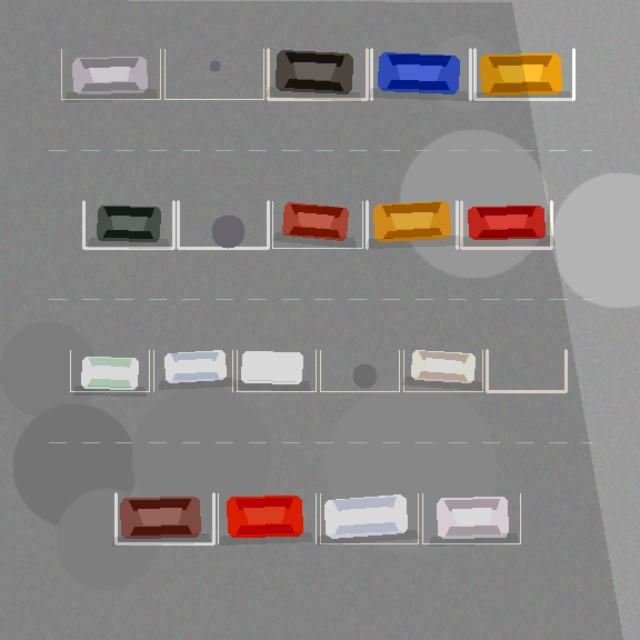space-empty: (164, 49, 263, 99), (178, 201, 268, 248), (320, 350, 399, 391), (487, 350, 566, 391)
space-occupied: (61, 49, 160, 99), (268, 49, 367, 99), (371, 49, 470, 99), (474, 49, 573, 99), (218, 493, 316, 543), (320, 493, 418, 543), (422, 493, 520, 543), (116, 493, 213, 543), (83, 201, 173, 248), (272, 201, 362, 248), (367, 201, 457, 248), (461, 201, 551, 248), (70, 350, 149, 391), (153, 350, 232, 391), (237, 350, 316, 391), (403, 350, 482, 391)
